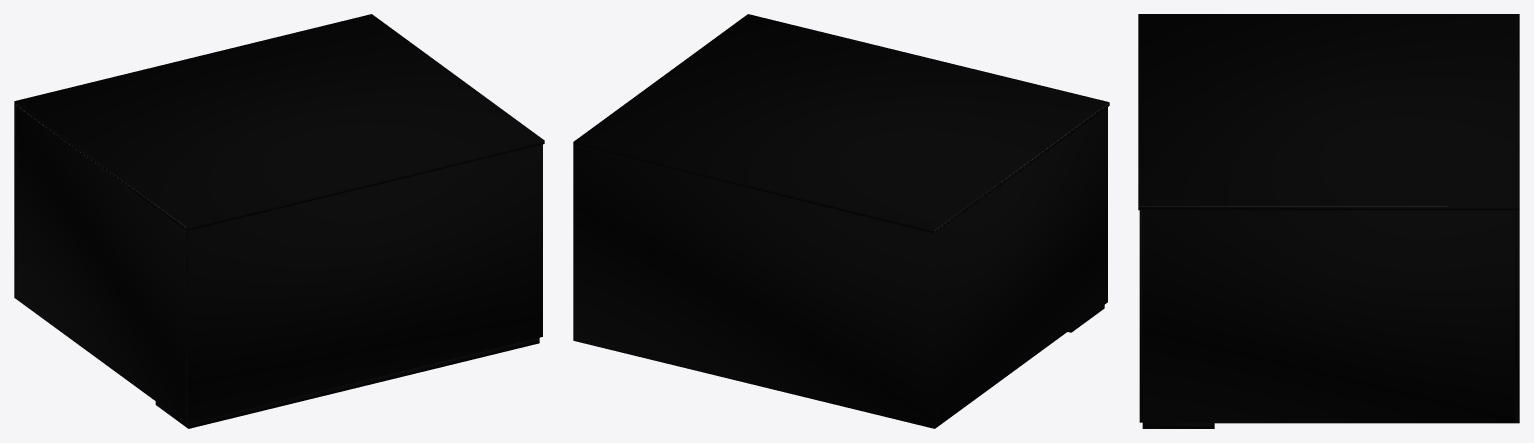
Rendered from hall_grand.glb.
The picture shows the model from 3 angles, left to right: view 1: azimuth 30°, elevation 25°; view 2: azimuth 150°, elevation 25°; view 3: azimuth 270°, elevation 25°; orthographic projection. The views are drawn at different scales.
Parts seen in each view (by area): view 1: grand_shell, grand_ceiling, grand_floor; view 2: grand_shell, grand_ceiling; view 3: grand_shell, grand_ceiling, grand_floor.
Part boxes in pixels (x1=…): grand_shell: x1=14, y1=105, x2=542, y2=423; grand_ceiling: x1=14, y1=14, x2=544, y2=230; grand_floor: x1=155, y1=337, x2=539, y2=428; grand_shell: x1=573, y1=107, x2=1107, y2=428; grand_ceiling: x1=573, y1=14, x2=1109, y2=233; grand_shell: x1=1139, y1=210, x2=1519, y2=423; grand_ceiling: x1=1138, y1=14, x2=1519, y2=210; grand_floor: x1=1142, y1=423, x2=1214, y2=428.
Size of the model in its own units: 32.6 by 17.72 by 27.3.
Materials: 5 (5 with a texture image).
